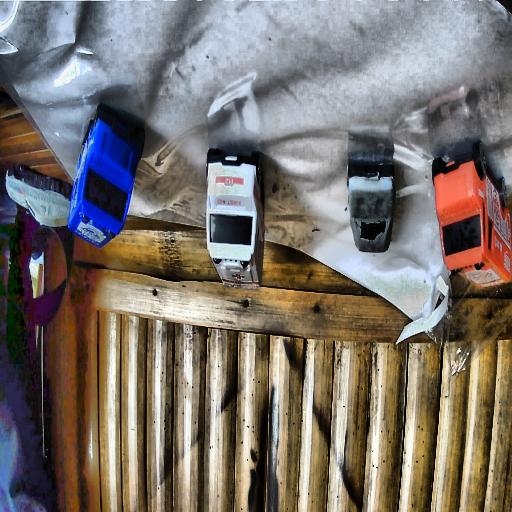ambulance: (204, 148, 266, 288)
fire_truck: (432, 153, 512, 288)
normal_car: (346, 131, 395, 255)
police car: (67, 104, 145, 249)
